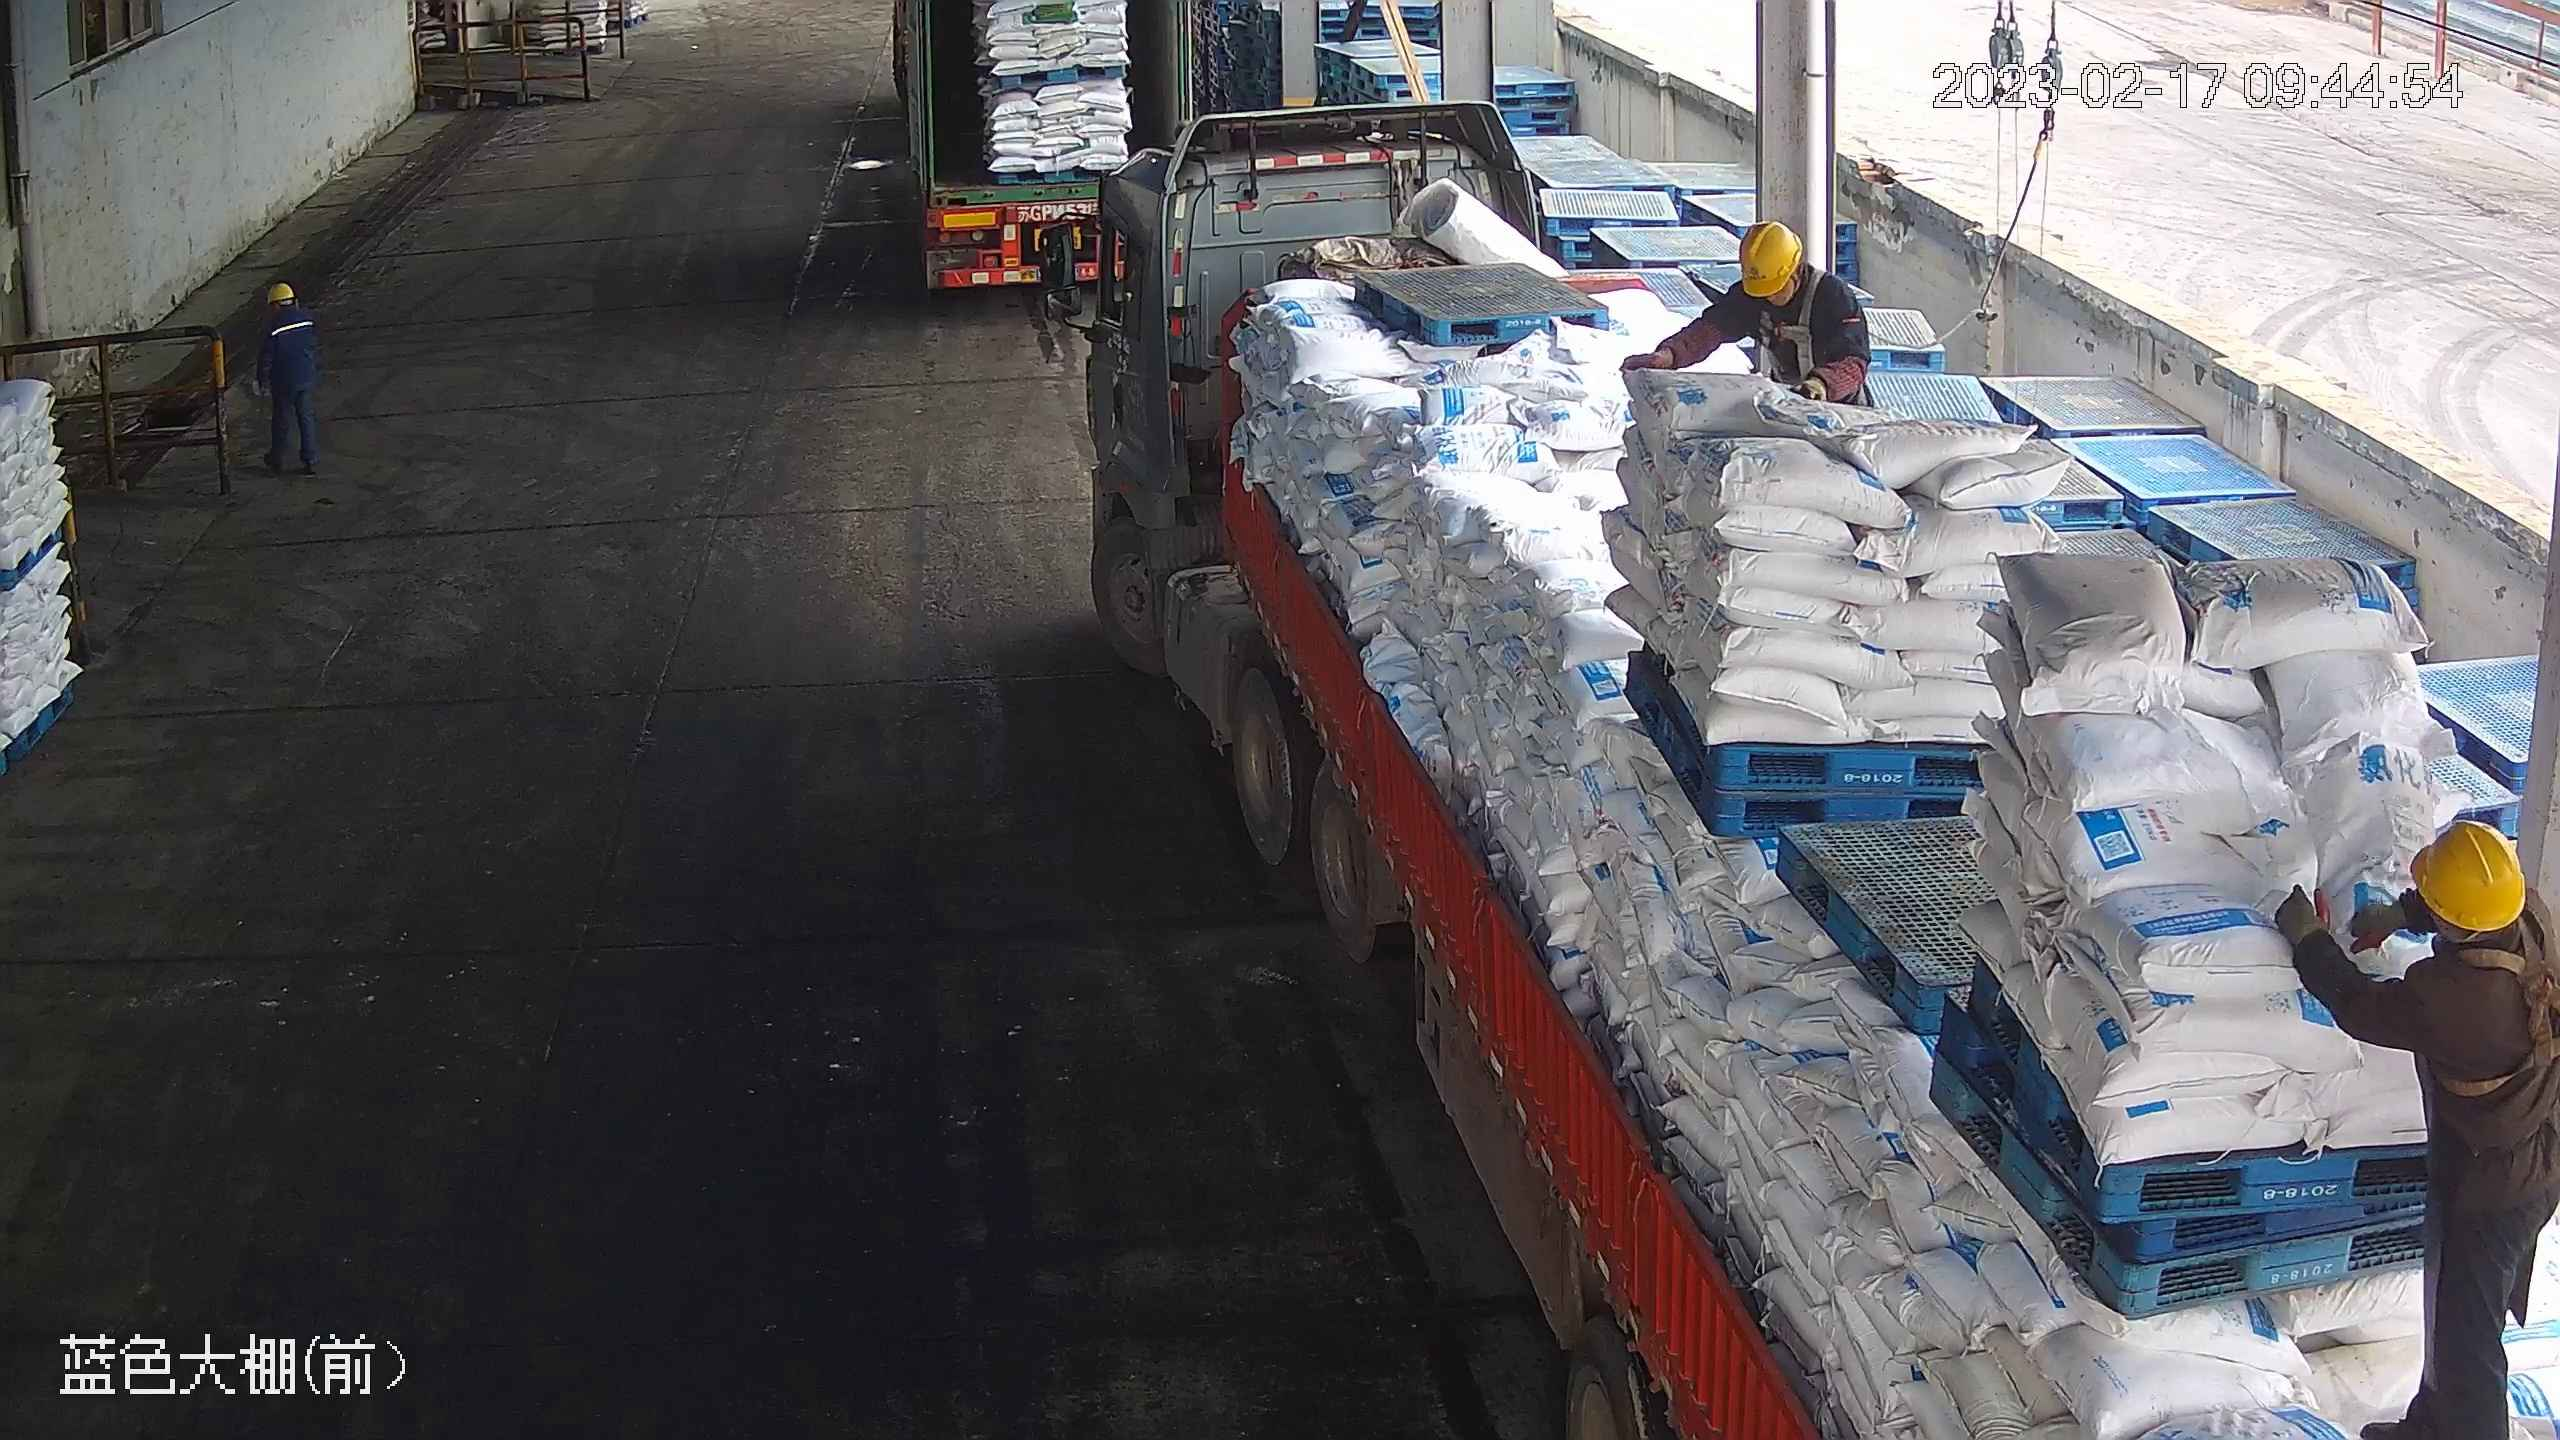belt: (2448, 935, 2560, 1100), (1757, 283, 1825, 351)
head: (2274, 816, 2557, 1052), (1713, 217, 1861, 331), (259, 282, 315, 345)
helmet: (2407, 816, 2524, 936), (1732, 218, 1803, 297), (264, 280, 293, 302)
people: (2276, 823, 2559, 1436), (253, 278, 326, 474)
truck: (1083, 91, 2553, 1440), (883, 4, 1225, 308)
